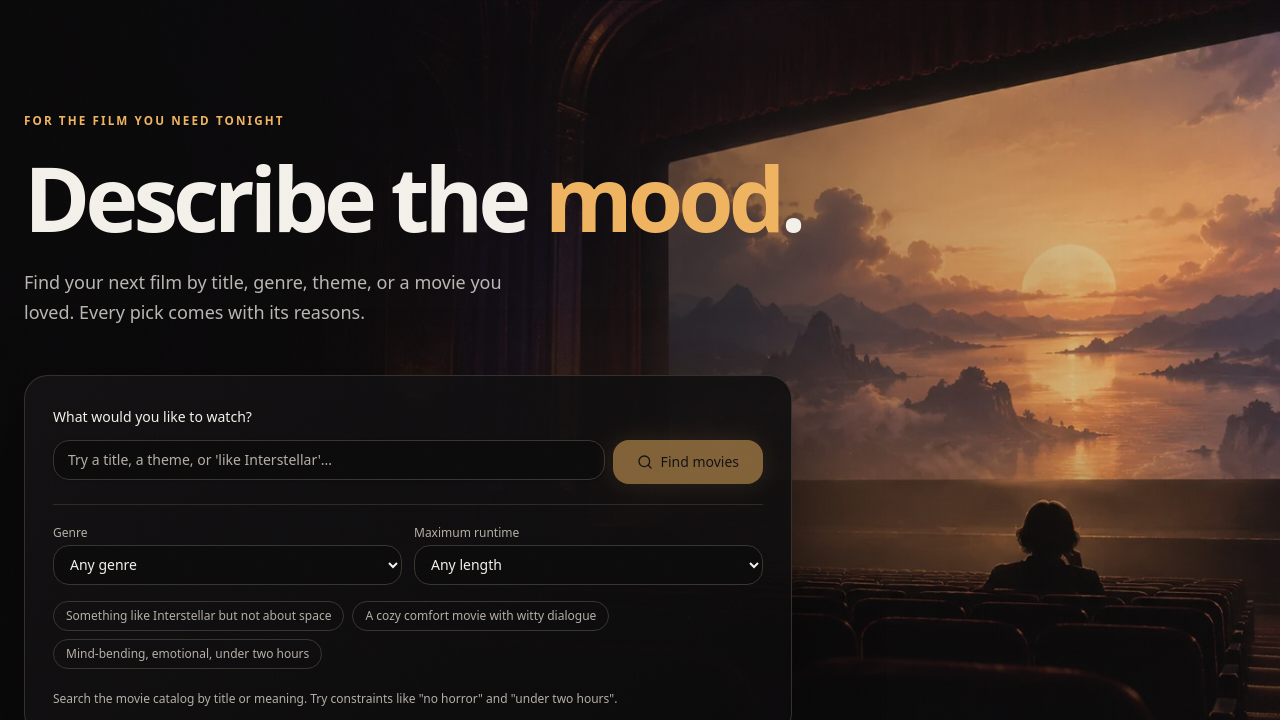
it: Discover search › recovers from a network failure and re-enables submission
Type "Interstellar" into the field labelled "What would you like to watch?".
click(329, 460); type("Interstellar")  # box [53,440,605,480]
Then press Enter
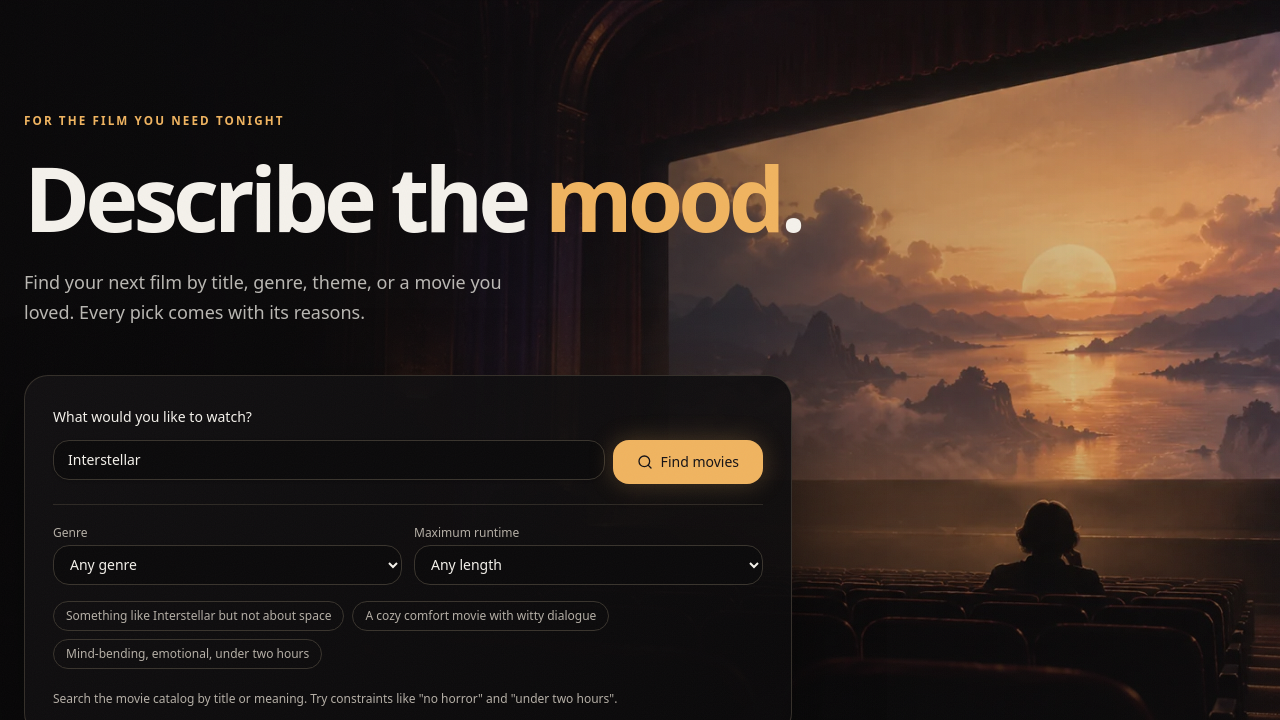
Expected: the button "Find movies" is enabled, [613,440,763,484]
